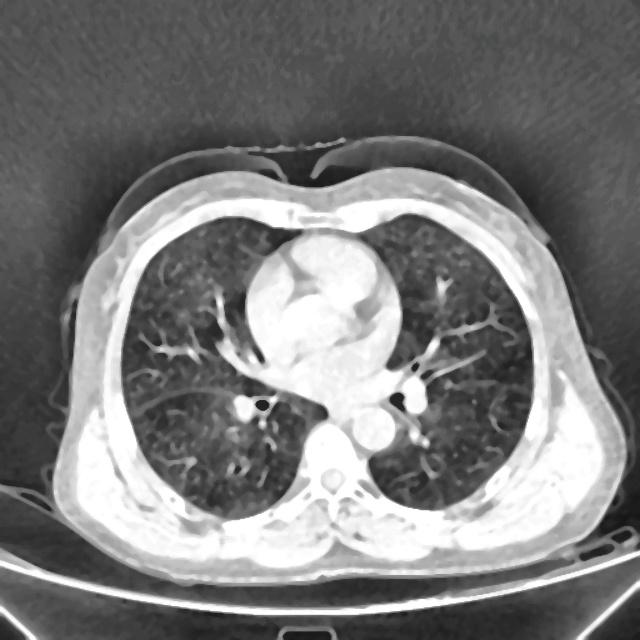covid: (46, 137, 628, 587)
